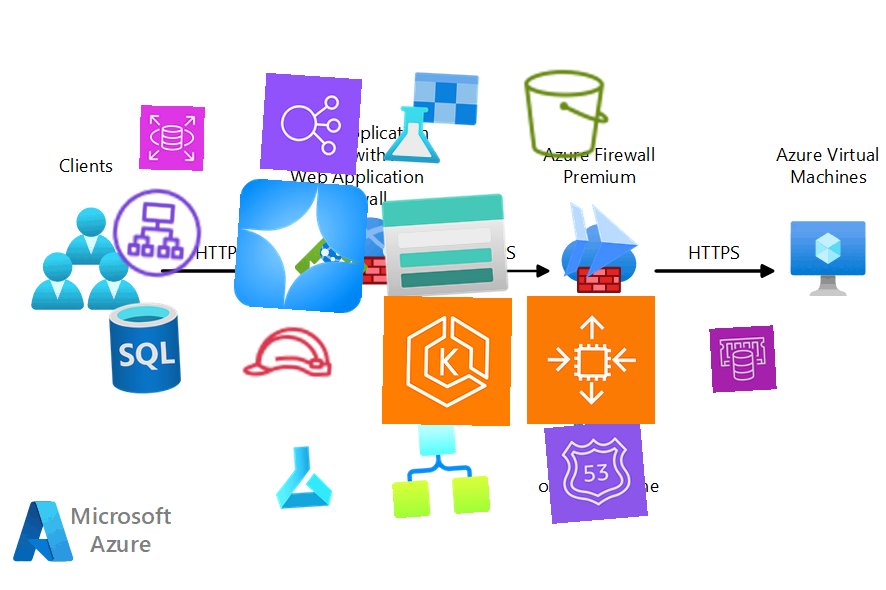aws_amazon_ec2_auto_scaling: (526, 295, 656, 425)
aws_amazon_elastic_kubernetes_service: (381, 295, 513, 427)
aws_amazon_elasticache: (709, 325, 777, 393)
aws_amazon_rds: (139, 105, 205, 171)
aws_amazon_route_53: (544, 420, 648, 524)
aws_elastic_load_balancing: (259, 72, 363, 176)
aws_elastic_load_balancing_application_load_balancer: (105, 181, 209, 285)
aws_identity_access_management_role: (237, 302, 339, 404)
aws_simple_storage_service_bucket: (517, 65, 615, 163)
azure_logic_apps: (387, 415, 491, 519)
azure_machine_learning: (269, 443, 337, 511)
azure_machine_learning_studio_workspaces: (380, 67, 482, 169)
azure_openai: (232, 177, 370, 315)
azure_sql_database: (94, 297, 196, 399)
azure_storage_accounts: (376, 177, 514, 315)
gcp_cloud_run: (549, 190, 653, 294)
